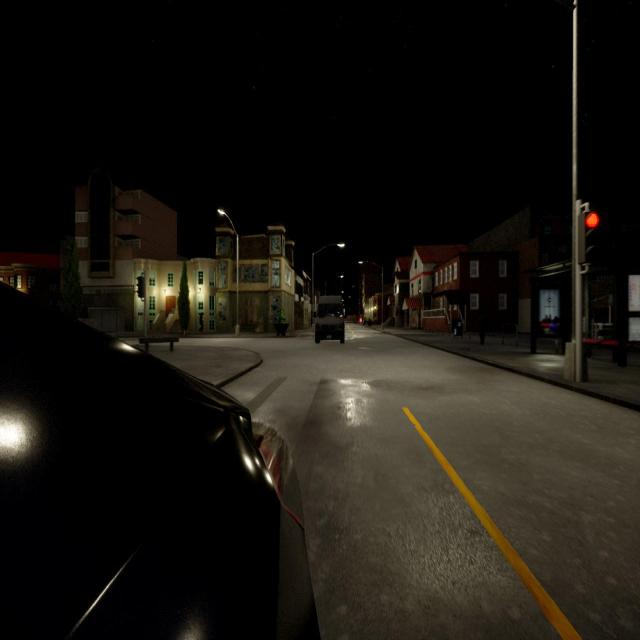Pedestrian: (197, 312, 205, 332)
Vehicle: (0, 283, 318, 637), (313, 296, 348, 344)
traffic_light: (580, 212, 600, 267)
